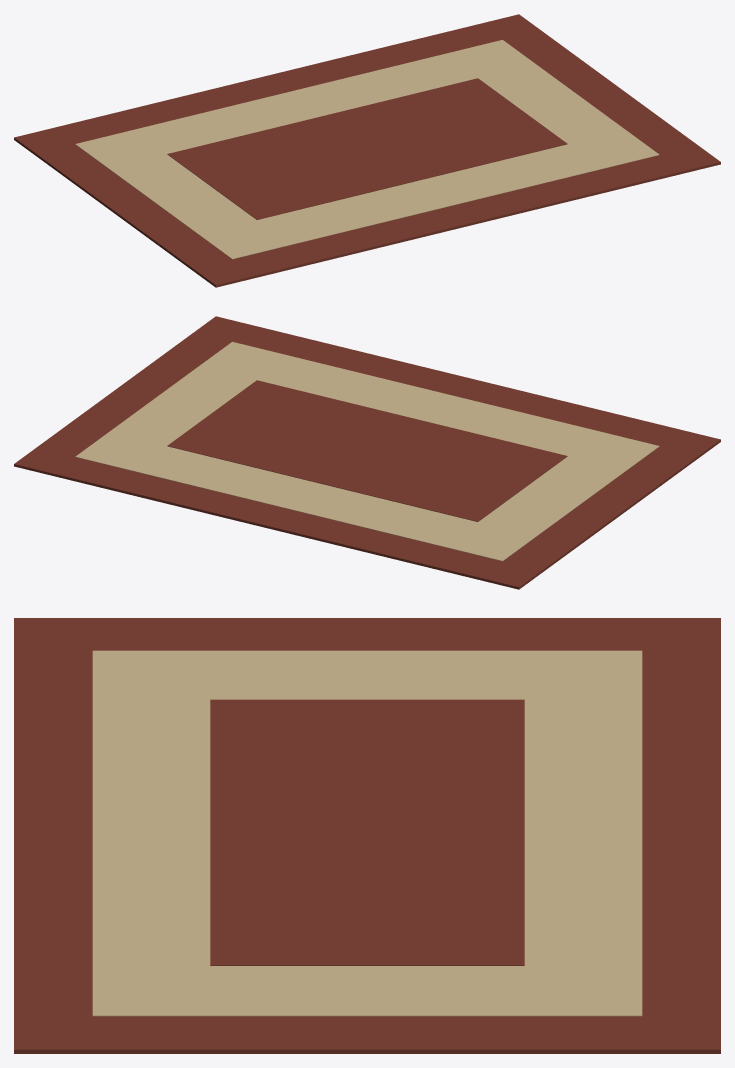
File: rug.gltf
The picture shows the model from 3 angles, top to bottom: view 1: azimuth 30°, elevation 25°; view 2: azimuth 150°, elevation 25°; view 3: azimuth 270°, elevation 25°; orthographic projection. The views are drawn at different scales.
Visible parts, largest first — view 1: rug_mesh; view 2: rug_mesh; view 3: rug_mesh.
Boxes of the visible parts, x1,y1,x2,y2 form: rug_mesh: (14, 14, 720, 287); rug_mesh: (14, 316, 720, 589); rug_mesh: (14, 618, 720, 1053).
Bounding box in the file's own units: 2.6 × 0.016 × 1.8.
